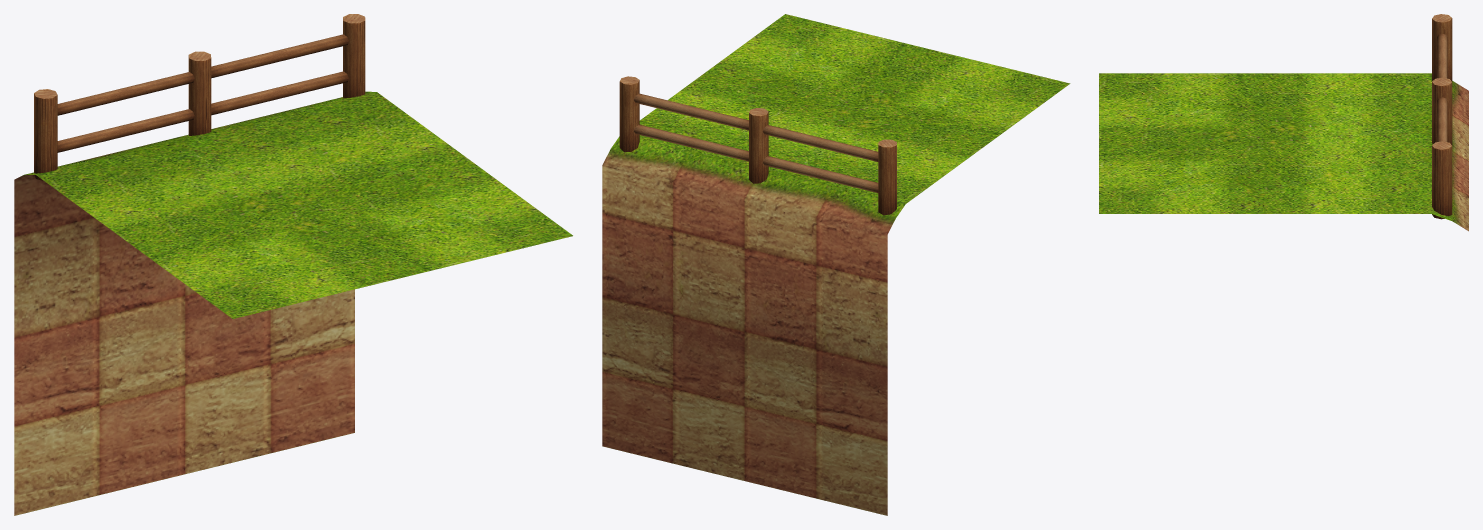
The model's file is Ground06.FBX.
3 renders of one model, left to right at view 1: azimuth 30°, elevation 25°; view 2: azimuth 150°, elevation 25°; view 3: azimuth 270°, elevation 25°, orthographic. The views are drawn at different scales.
Parts seen in each view (by area): view 1: Ground, Fence; view 2: Ground, Fence; view 3: Ground, Fence.
Part boxes in pixels (x1,y1,x2,y2): Ground: [14, 91, 572, 515]; Fence: [34, 14, 365, 180]; Ground: [602, 14, 1070, 515]; Fence: [619, 76, 896, 215]; Ground: [1099, 73, 1468, 231]; Fence: [1432, 14, 1452, 219].
Bounding box in the file's own units: 3.81 × 4.59 × 4.23.
